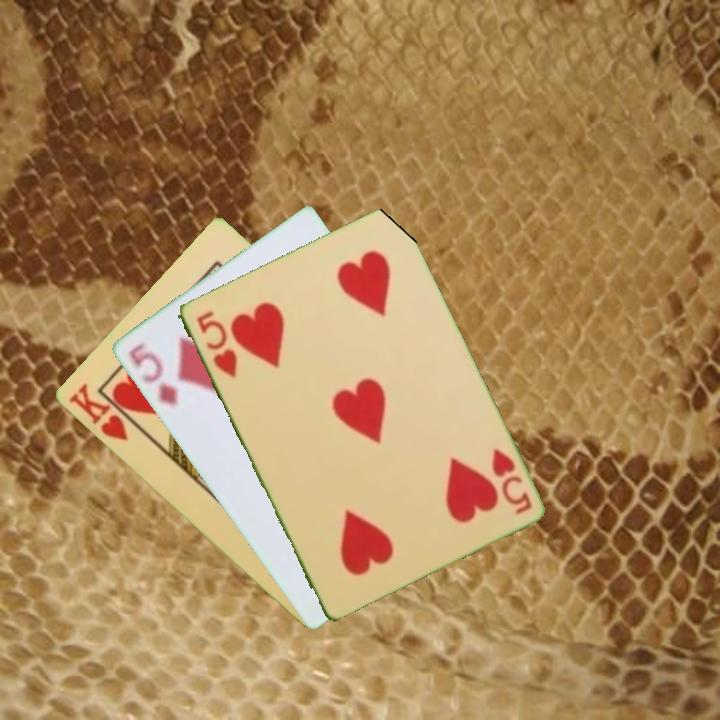5d: (124, 337, 180, 409)
5h: (192, 307, 240, 381), (487, 445, 534, 517)
Kh: (64, 379, 144, 444)
